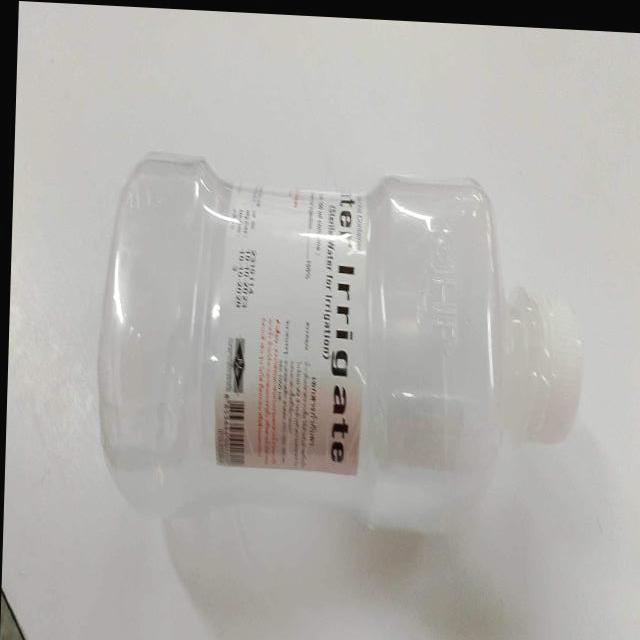General: (94, 150, 578, 533)
